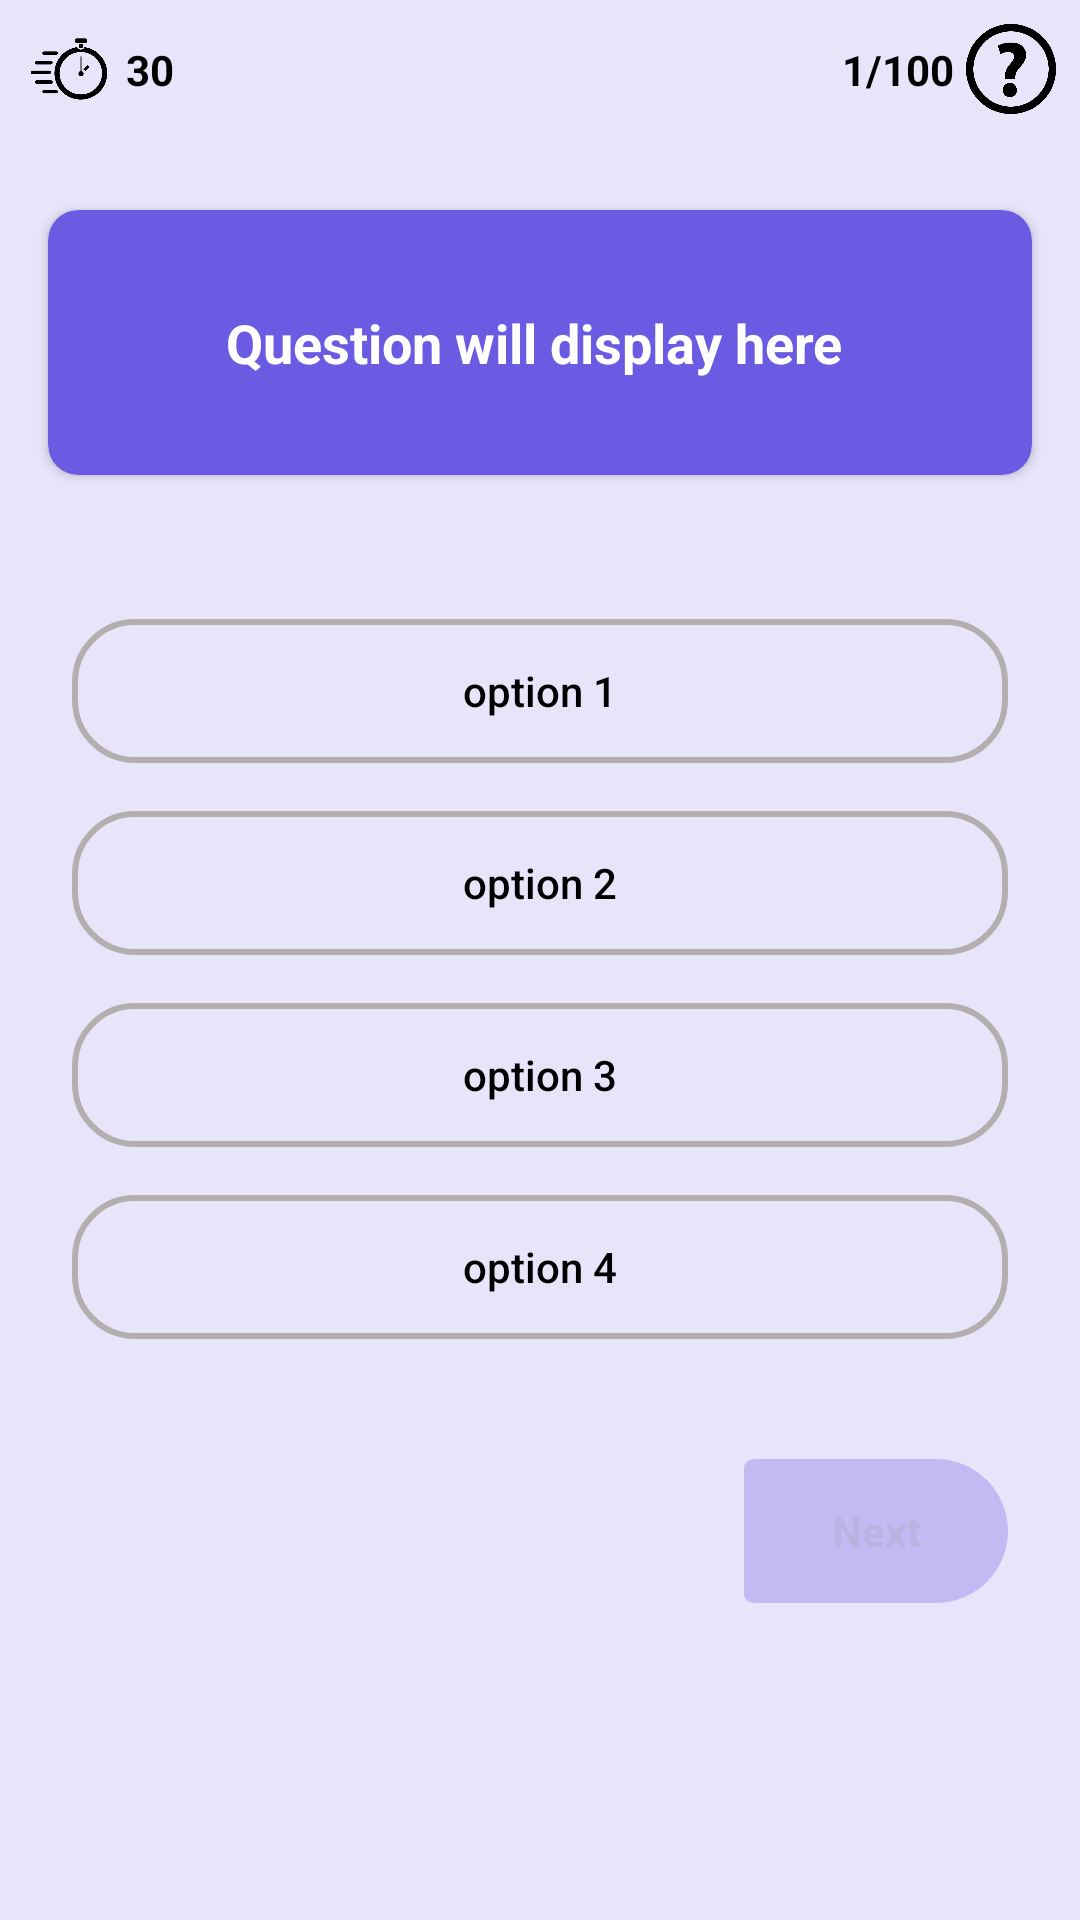

Icon click points for this 1080px x 1920px phone screenshot, format [x,y]:
questionmark: [1011,69]
timer: [69,69]
